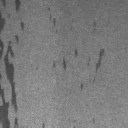red iron: (0, 0, 20, 128), (96, 48, 106, 72), (52, 58, 66, 69), (20, 21, 24, 30), (53, 18, 56, 26), (94, 20, 96, 32), (75, 50, 78, 57), (42, 124, 46, 128), (80, 84, 83, 89)
